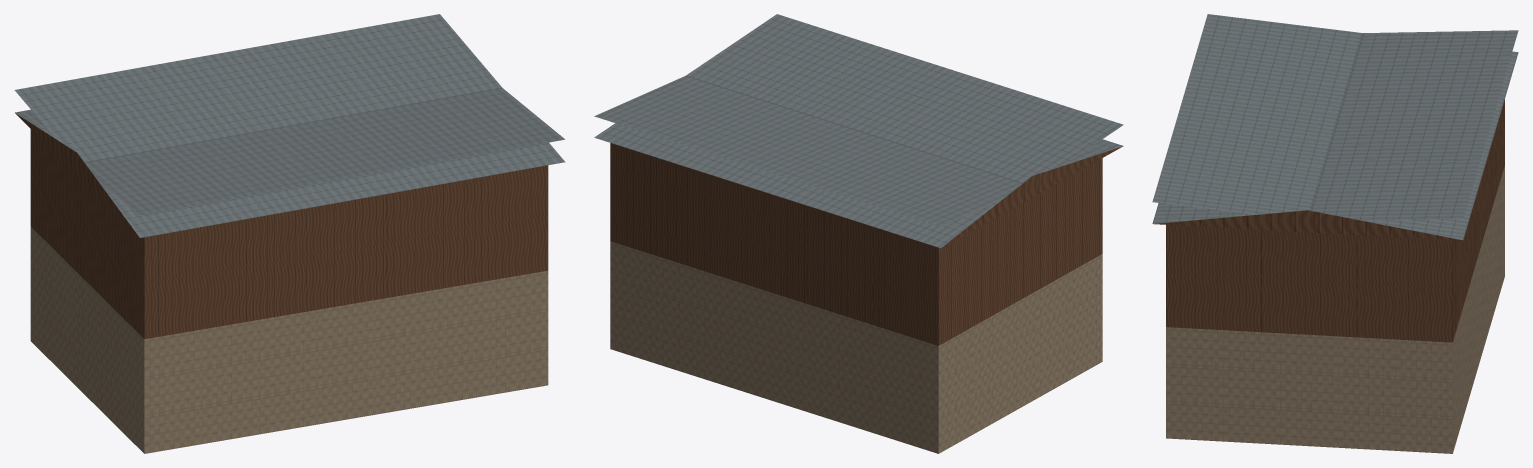
File: bld_c5_11_472.gltf
3 views of the same model, side by side, from view 1: azimuth 30°, elevation 25°; view 2: azimuth 150°, elevation 25°; view 3: azimuth 270°, elevation 25° (orthographic). The views are drawn at different scales.
Parts seen in each view (by area): view 1: bld_c5_11_472; view 2: bld_c5_11_472; view 3: bld_c5_11_472.
Boxes of the visible parts, <box> form: bld_c5_11_472: <box>14,14,565,453</box>; bld_c5_11_472: <box>594,14,1123,453</box>; bld_c5_11_472: <box>1152,14,1518,453</box>.
Bounding box in the file's own units: 20 × 11 × 15.14.
4 materials, 4 textured.
